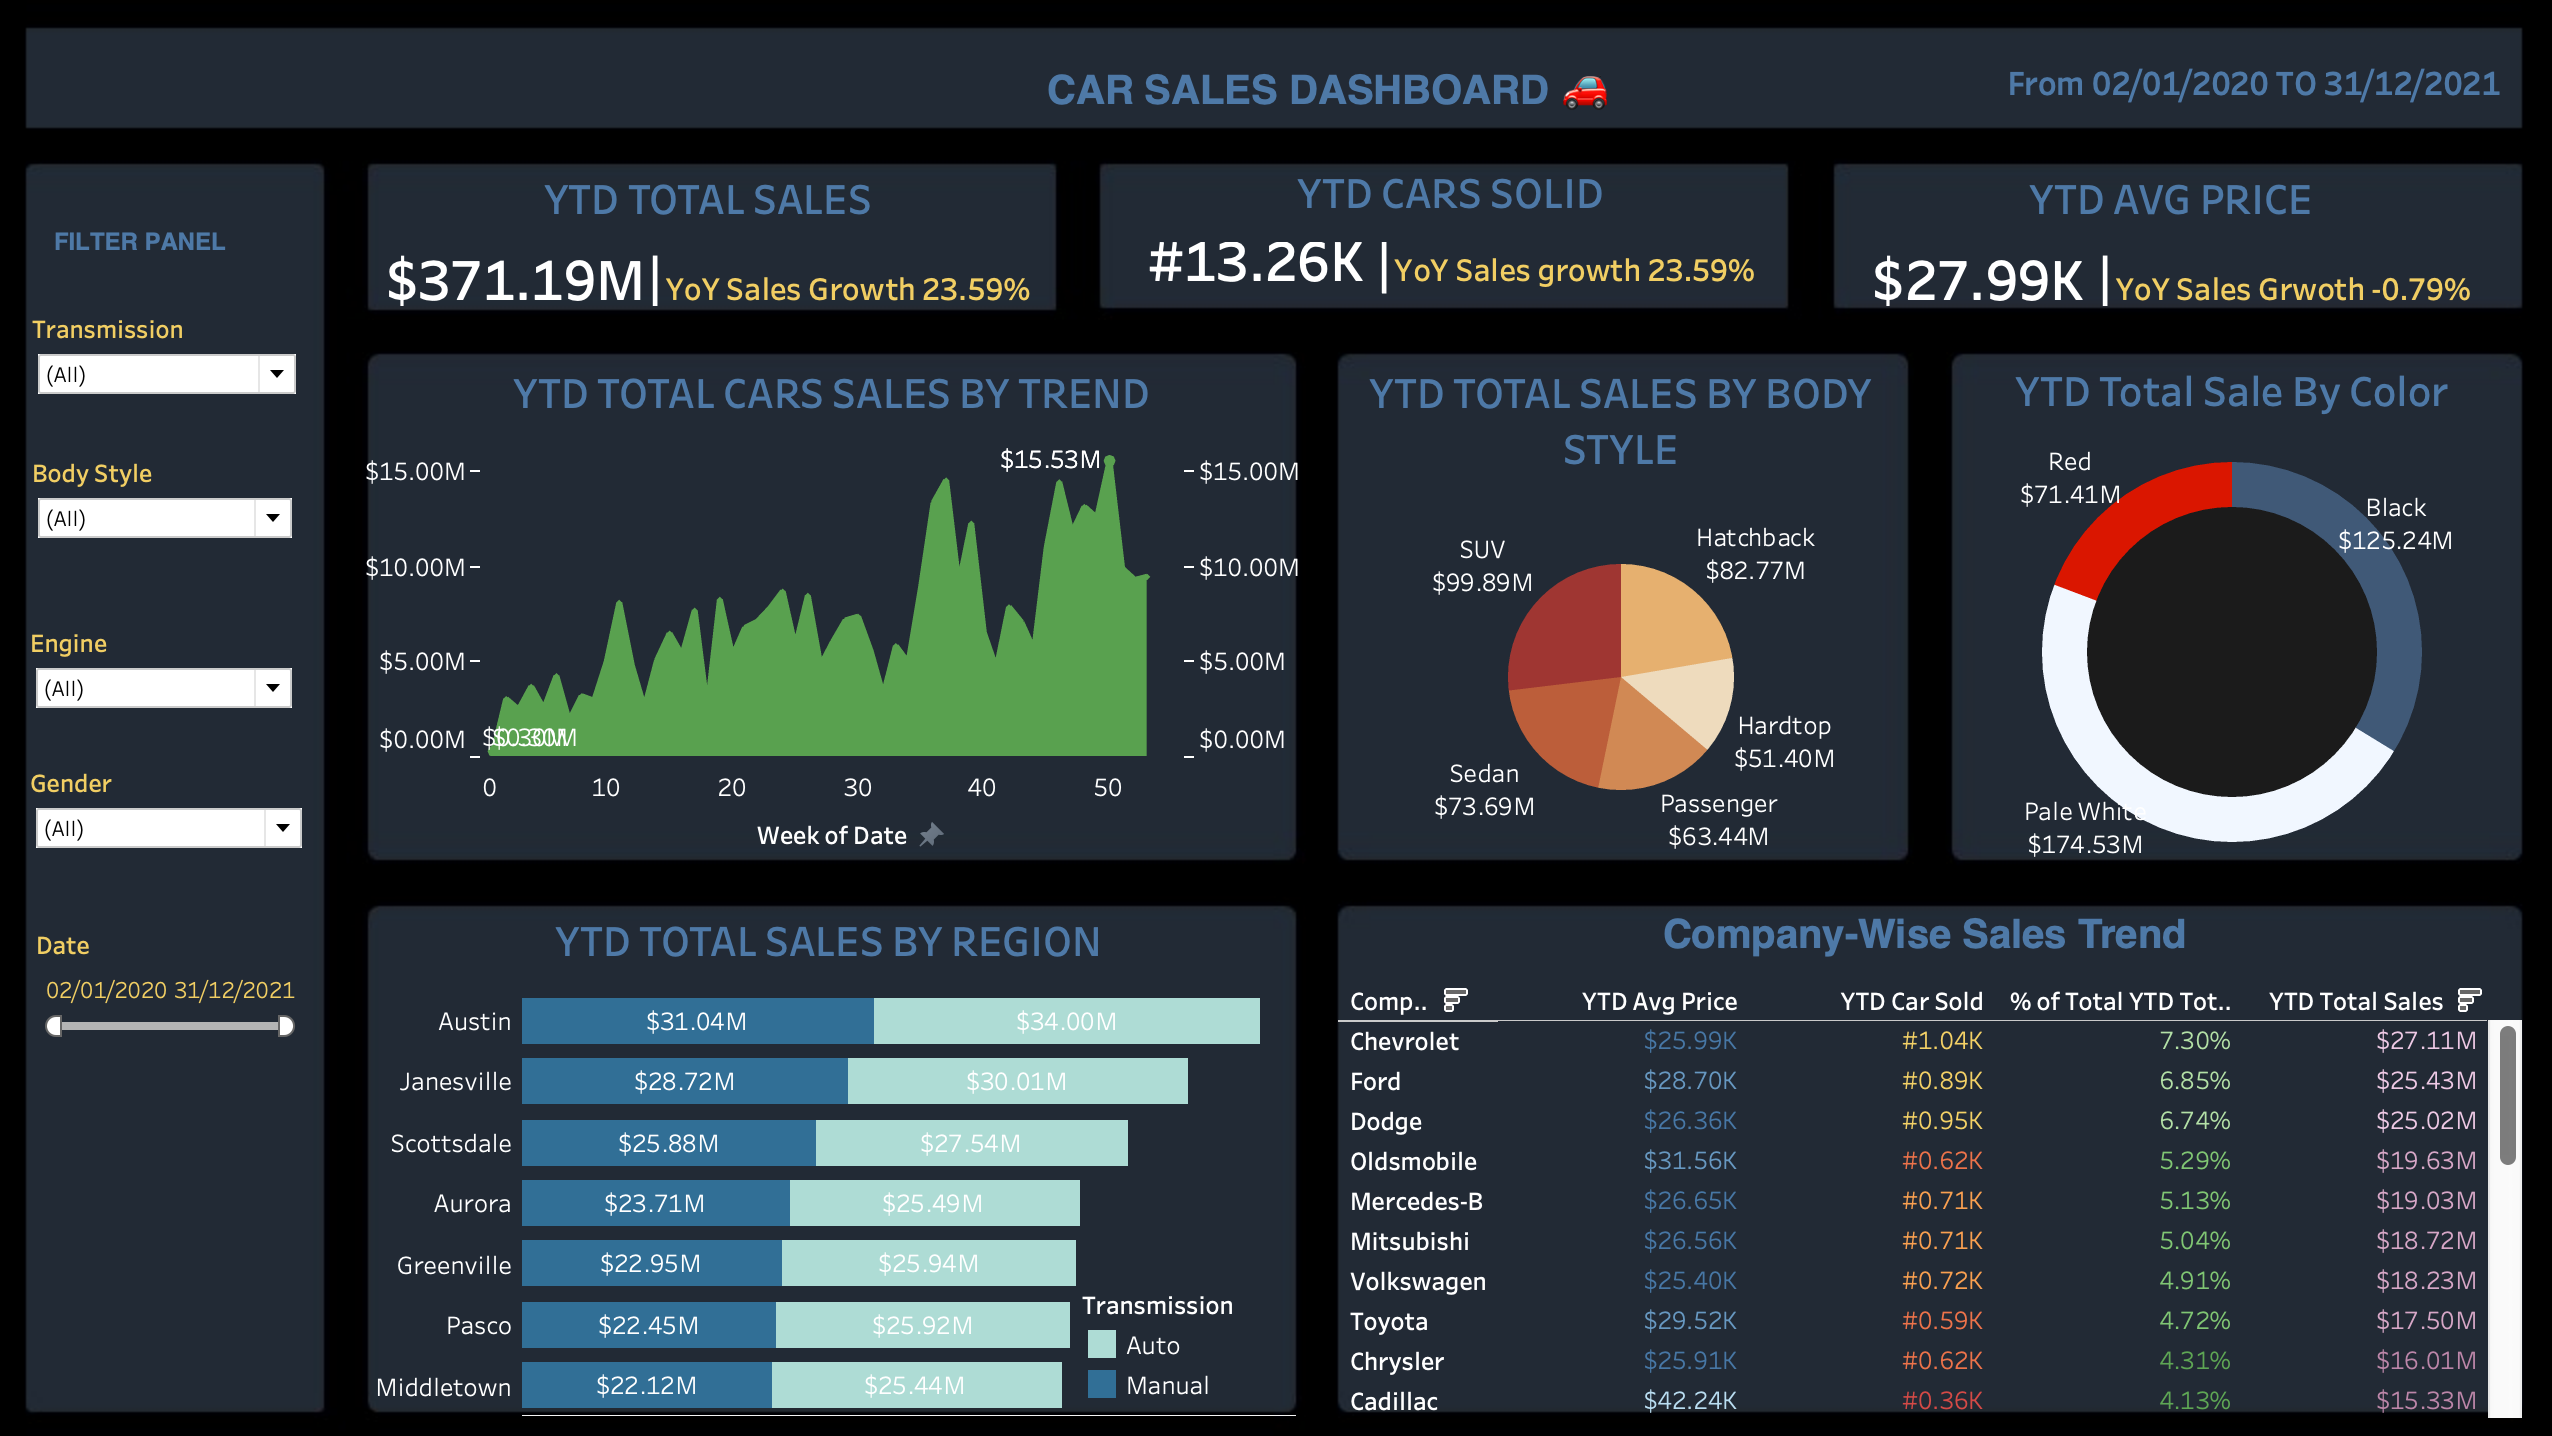

Layout of this report page (visuals, bound fields, positions):
{"tool":"tableau","page":{"name":"CAR SALES DASHBOARD","canvas":[1600,900],"ordinal":0},"visuals":[{"type":"image","param":"/Users/shahalp/Downloads/Car Sales Background.jpg","box":[8,8,1584,852]},{"type":"worksheet","title":"Date Rande","mark":"Automatic","box":[1011,27,262,51]},{"type":"text","box":[462,36,437,44]},{"type":"worksheet","title":"YTD Car Sold","mark":"Automatic","box":[702,109,392,78]},{"type":"worksheet","title":"YTD Avg Price","mark":"Automatic","box":[1138,111,378,72]},{"type":"worksheet","title":"YTD Total Sales","mark":"Automatic","box":[286,112,344,72]},{"type":"text","box":[71,114,100,30]},{"type":"filter","title":"YTD Total Cars Sales By Trend","param":"[federated.0eruonb0ze73671eld9ec1npooao].[none:Transmission:nk]","box":[68,157,135,69]},{"type":"filter","title":"YTD Total Cars Sales By Trend","param":"[federated.0eruonb0ze73671eld9ec1npooao].[none:Body Style:nk]","box":[69,221,133,91]},{"type":"worksheet","title":"YTD Total Cars Sales By Trend","mark":"Area","rows":["Calculation_544935622151102464","Calculation_544935622151102464"],"cols":["Date"],"box":[273,221,538,293]},{"type":"worksheet","title":"YTD Total Sales By Body Style","mark":"Pie","box":[837,221,332,293]},{"type":"worksheet","title":"YTD Total Sale By Color","mark":"Pie","rows":["Calculation_556757571197517825","Calculation_556757571197595651"],"box":[1199,222,331,292]},{"type":"filter","title":"YTD Total Cars Sales By Trend","param":"[federated.0eruonb0ze73671eld9ec1npooao].[none:Engine:nk]","box":[68,299,134,66]},{"type":"filter","title":"YTD Total Cars Sales By Trend","param":"[federated.0eruonb0ze73671eld9ec1npooao].[none:Gender:nk]","box":[70,370,131,85]},{"type":"filter","title":"YTD Total Cars Sales By Trend","param":"[federated.0eruonb0ze73671eld9ec1npooao].[none:Date:qk]","box":[69,439,128,69]},{"type":"worksheet","title":"YTD Total Sales By Region","mark":"Automatic","rows":["Dealer_Region"],"cols":["Calculation_544935622151102464"],"box":[271,547,541,296]},{"type":"worksheet","title":"Company-Wise Sales Trend","mark":"Automatic","rows":["Company"],"box":[840,547,691,291]},{"type":"legend","title":"YTD Total Sales By Region","param":"[federated.0eruonb0ze73671eld9ec1npooao].[none:Transmission:nk]","box":[706,778,104,59]},{"type":"image","param":"/Users/shahalp/Downloads/Car Sales Background.JPEG","box":[8,860,1584,32]}]}

Visuals, with their boxes in screenshot pixels (x1, y1, x2, y2), scaled from the page's 1600x900 canvas onto the 2552x1436 screenshot:
image: select_region(13, 13, 2539, 1372)
"Date Rande" worksheet: select_region(1613, 43, 2030, 124)
text: select_region(737, 57, 1434, 128)
"YTD Car Sold" worksheet: select_region(1120, 174, 1745, 298)
"YTD Avg Price" worksheet: select_region(1815, 177, 2418, 292)
"YTD Total Sales" worksheet: select_region(456, 179, 1005, 294)
text: select_region(113, 182, 273, 230)
"YTD Total Cars Sales By Trend" filter: select_region(108, 251, 324, 361)
"YTD Total Cars Sales By Trend" filter: select_region(110, 353, 322, 498)
"YTD Total Cars Sales By Trend" worksheet (Area marks): select_region(435, 353, 1294, 820)
"YTD Total Sales By Body Style" worksheet (Pie marks): select_region(1335, 353, 1865, 820)
"YTD Total Sale By Color" worksheet (Pie marks): select_region(1912, 354, 2440, 820)
"YTD Total Cars Sales By Trend" filter: select_region(108, 477, 322, 582)
"YTD Total Cars Sales By Trend" filter: select_region(112, 590, 321, 726)
"YTD Total Cars Sales By Trend" filter: select_region(110, 700, 314, 811)
"YTD Total Sales By Region" worksheet: select_region(432, 873, 1295, 1345)
"Company-Wise Sales Trend" worksheet: select_region(1340, 873, 2442, 1337)
"YTD Total Sales By Region" legend: select_region(1126, 1241, 1292, 1335)
image: select_region(13, 1372, 2539, 1423)
